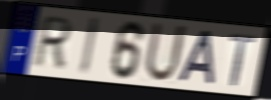6: (110, 19, 146, 82)
A: (176, 28, 216, 86)
I: (77, 15, 102, 77)
R: (30, 14, 75, 70)
T: (228, 32, 257, 89)
U: (142, 20, 189, 86)
